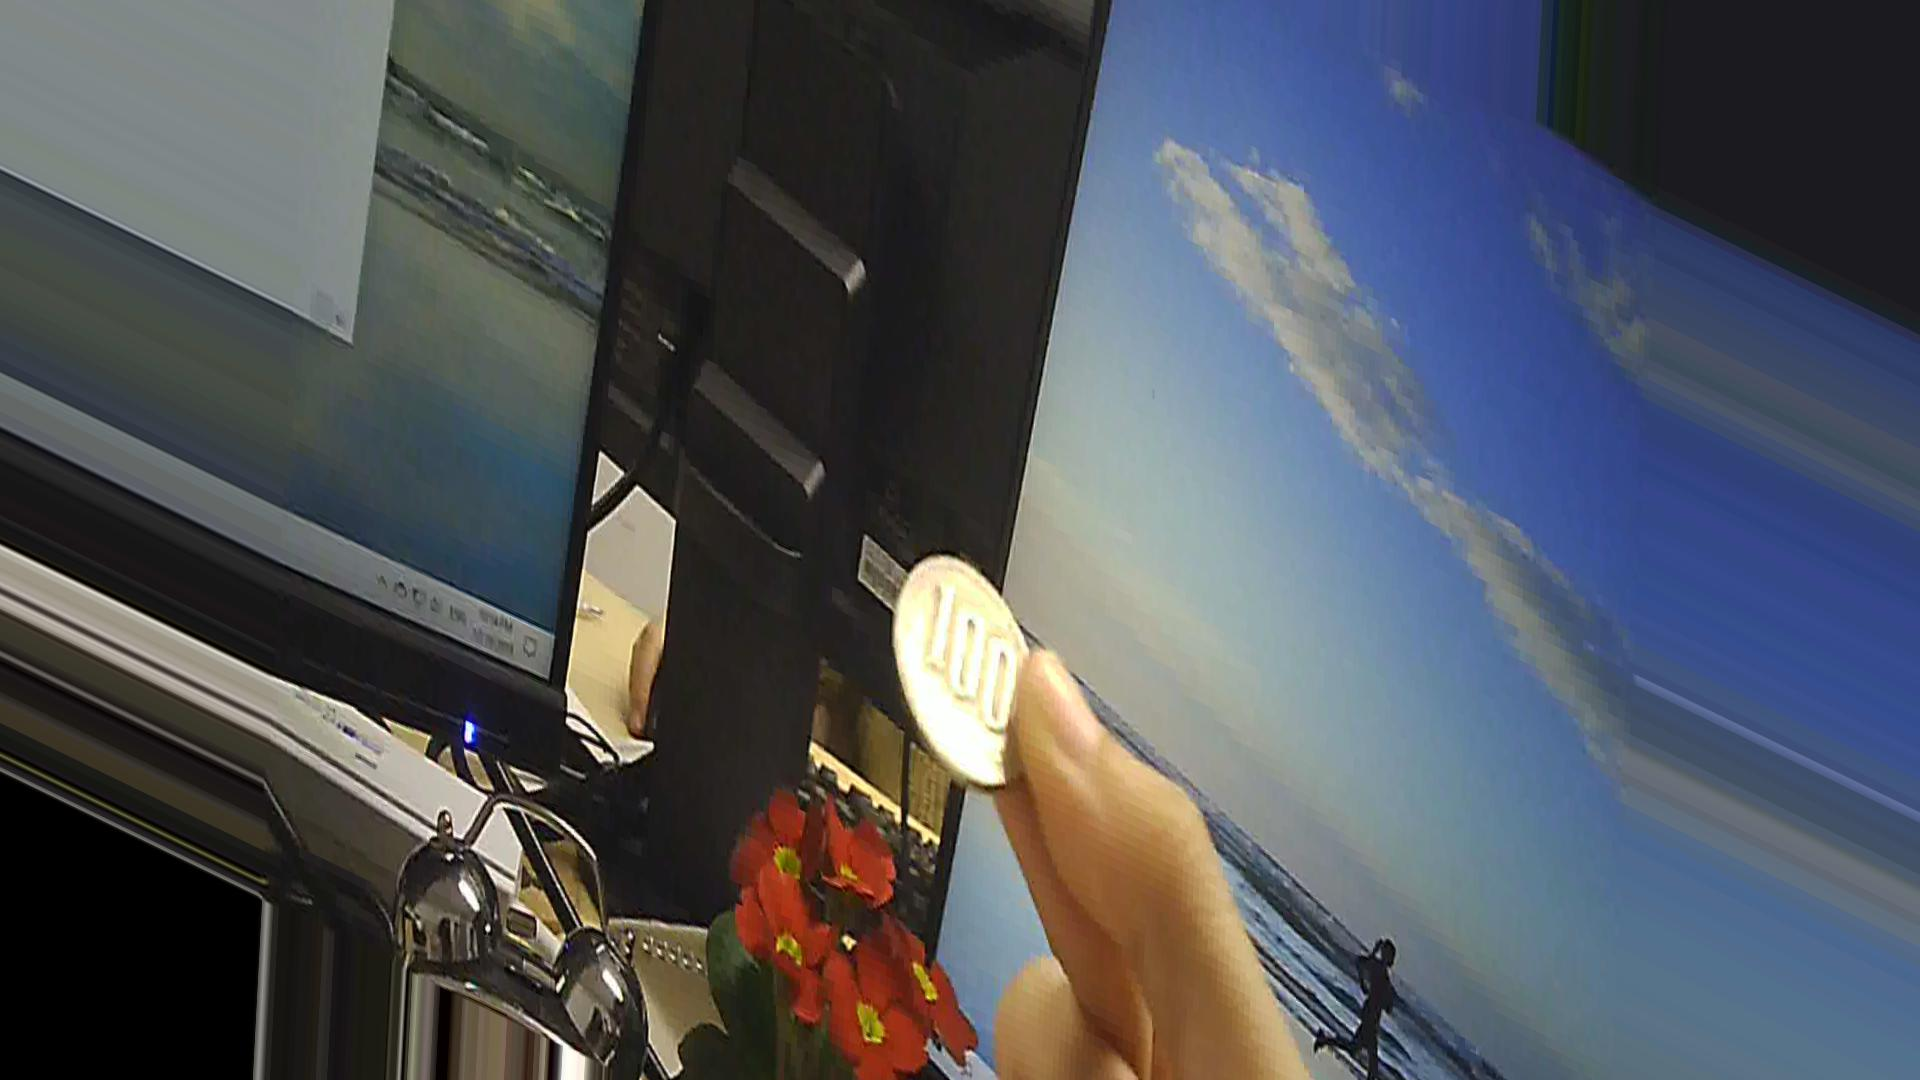100 Yen: (884, 542, 1065, 789)
